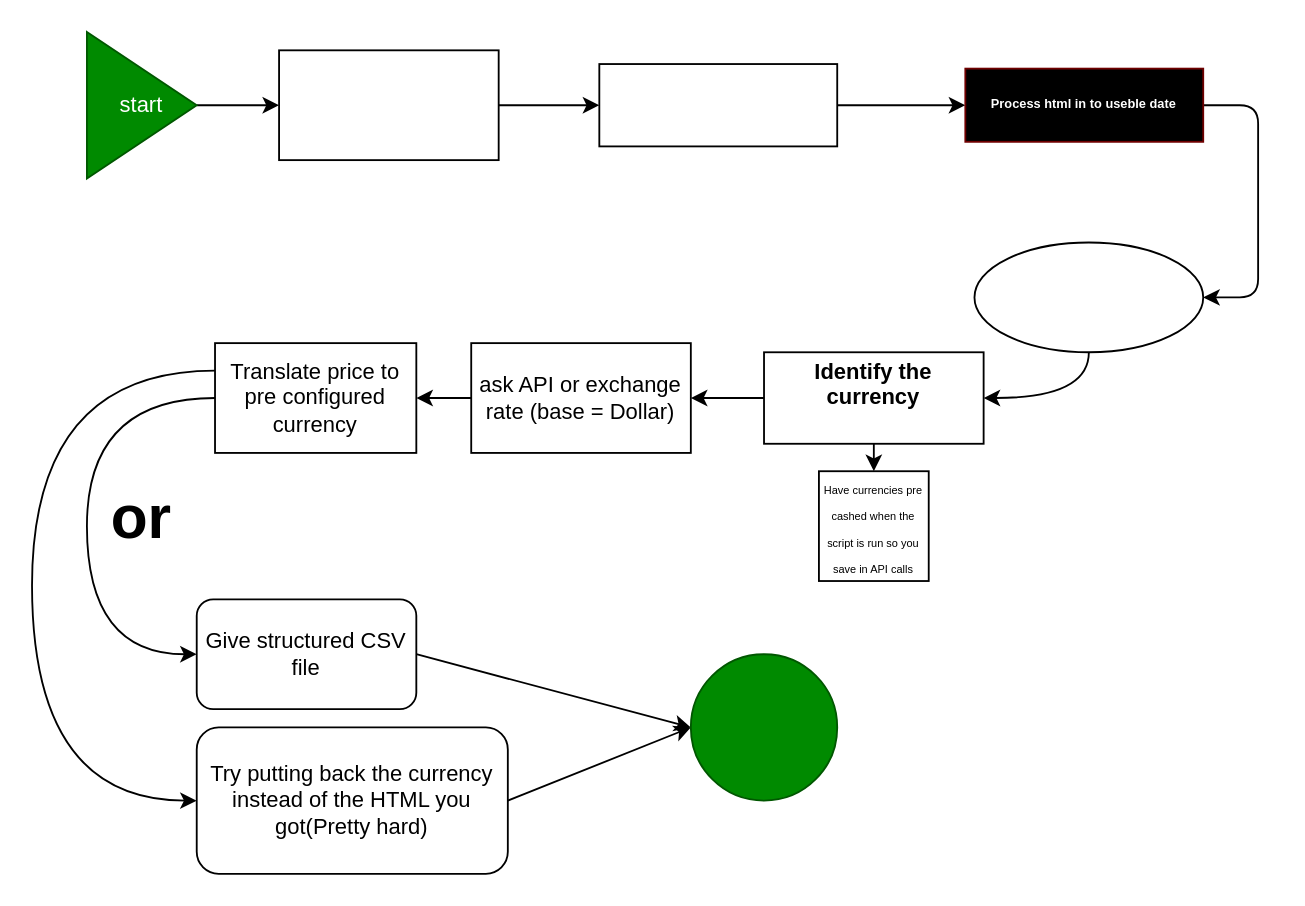
The diagram is 1305 pixels wide and 906 high, and some of its shapes have lost their labels. The shapes that lost their labels are listed below. From the top down, each one's box as (x1, y1, x2, y2) in pixels, then its label:
(277, 48, 499, 160): get URL from clip bord
(597, 62, 837, 146): fetch html from web site
(973, 241, 1203, 352): name:price:currency
(689, 652, 837, 801): DONE
